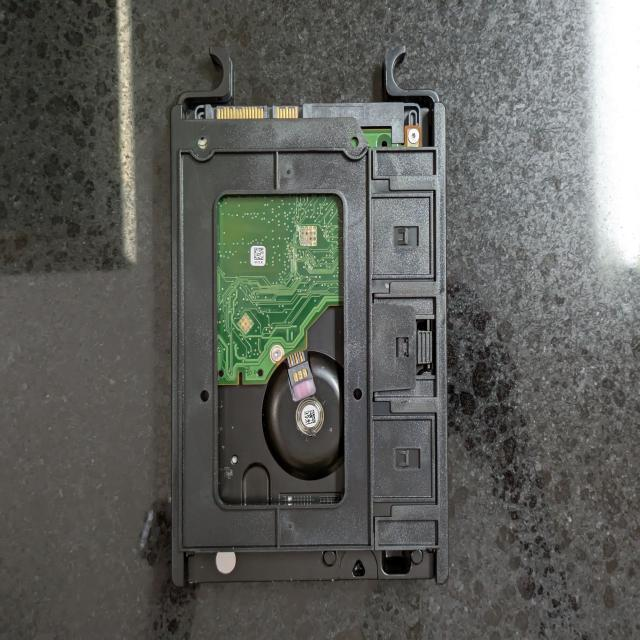DISK: (170, 102, 450, 586)
